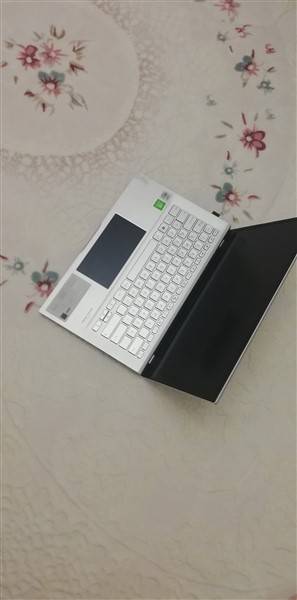laptop: (38, 169, 296, 406)
